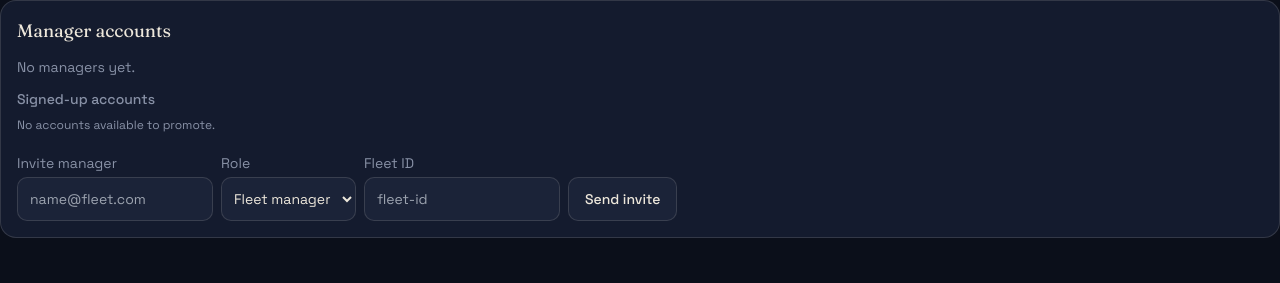
ManagerList (real mode — Supabase env vars configured) › blocks submission client-side with fleet_id_required when an admin leaves Fleet ID blank for a fleet_manager promotion
Type "target@fleet.com" into the field labelled "Invite manager" at (115, 199), box [17,177,213,221]
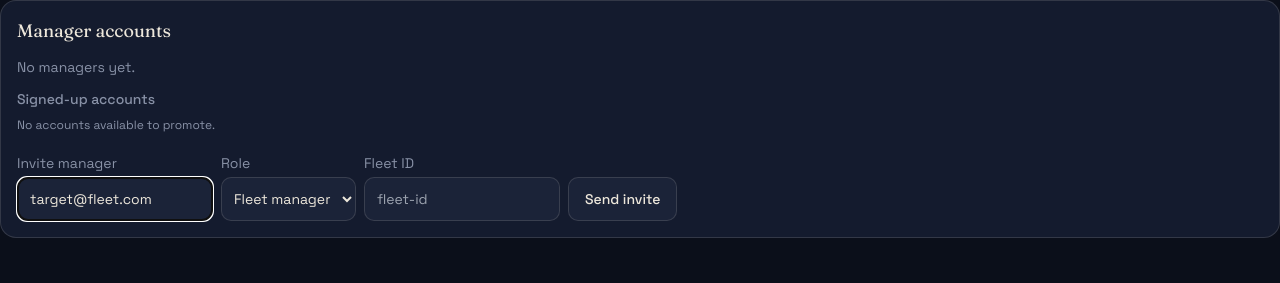
Click the button "Send invite" at (623, 199), box [568,177,677,221]
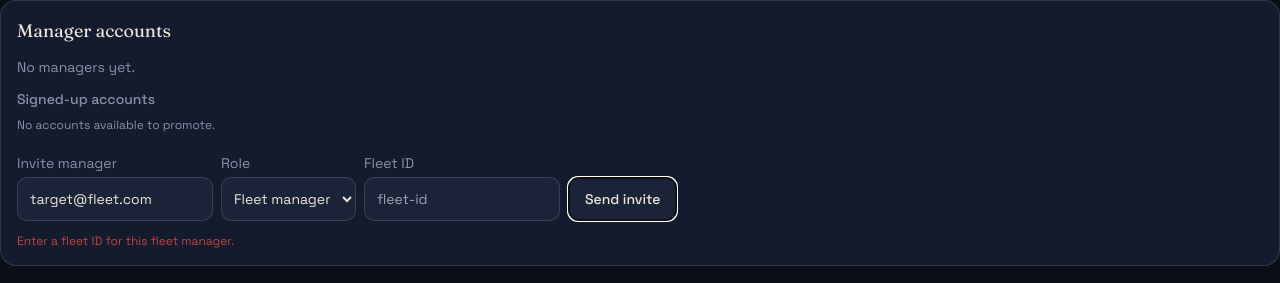
Expected: the message reads "Enter a fleet ID for this fleet manager.", [17,233,234,249]
